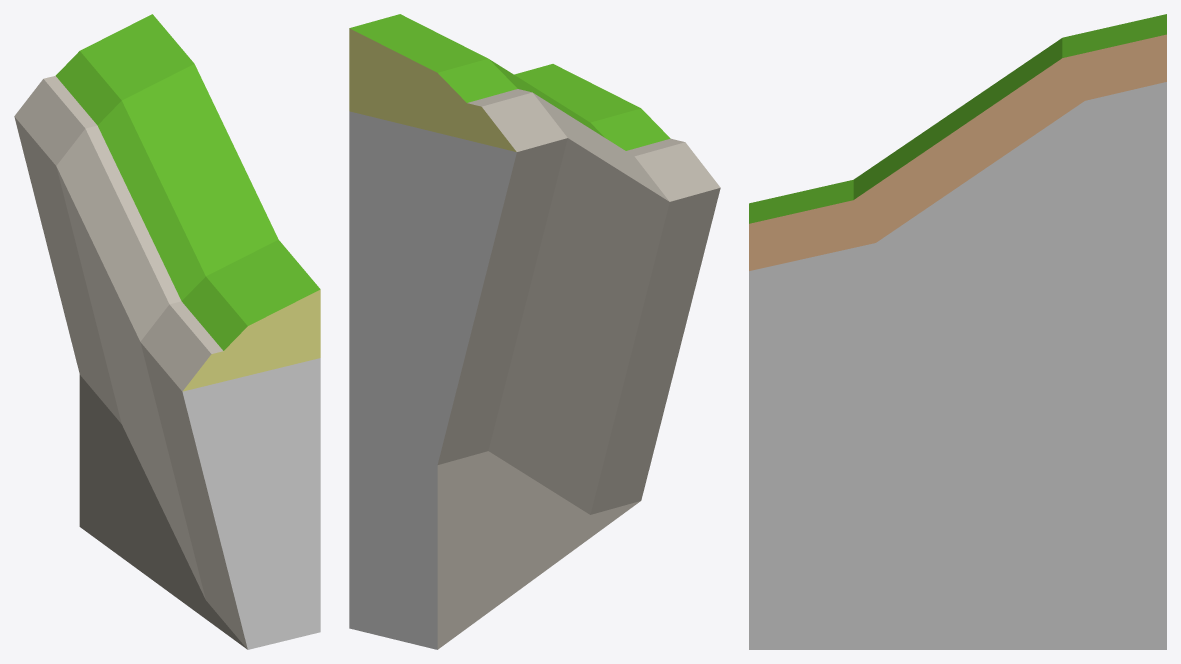
The model's file is Basic_Incline_Top_2x2.glb.
3 views of the same model, side by side, from view 1: azimuth 30°, elevation 25°; view 2: azimuth 150°, elevation 25°; view 3: azimuth 270°, elevation 25° (orthographic). The views are drawn at different scales.
Visible parts, largest first — view 1: Basic_Incline_Top_2x2; view 2: Basic_Incline_Top_2x2; view 3: Basic_Incline_Top_2x2.
Part boxes in pixels (box(x1,y1,x2,y2)): Basic_Incline_Top_2x2: box(14, 14, 320, 649); Basic_Incline_Top_2x2: box(349, 14, 720, 649); Basic_Incline_Top_2x2: box(749, 14, 1166, 649).
Size of the model in its own units: 95 by 325 by 200.
